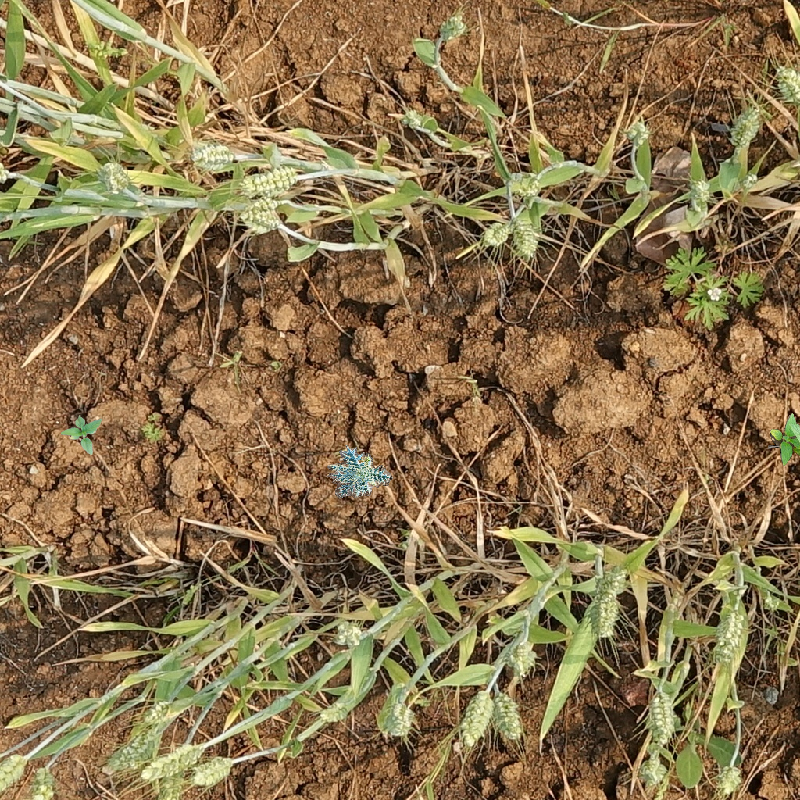spikelet: (103, 717, 166, 774), (709, 587, 751, 664), (139, 738, 204, 783), (237, 161, 302, 197), (330, 447, 375, 497), (458, 687, 494, 748), (585, 586, 622, 640), (645, 689, 678, 749), (235, 198, 285, 235), (91, 155, 133, 197), (726, 103, 764, 149), (189, 753, 237, 789), (187, 138, 237, 172), (492, 691, 525, 742), (510, 209, 542, 259), (1, 748, 30, 799), (505, 636, 537, 680), (378, 701, 414, 738), (23, 763, 59, 799), (594, 564, 630, 598), (478, 217, 514, 249), (140, 695, 176, 727), (713, 763, 744, 799), (505, 169, 542, 199), (774, 63, 800, 105), (332, 618, 367, 649), (638, 754, 668, 786), (686, 177, 713, 212), (154, 771, 187, 799), (437, 12, 467, 41), (624, 117, 652, 147)
weed: (665, 246, 766, 333), (322, 437, 396, 503), (762, 412, 800, 469), (61, 415, 102, 455), (142, 413, 168, 445)
